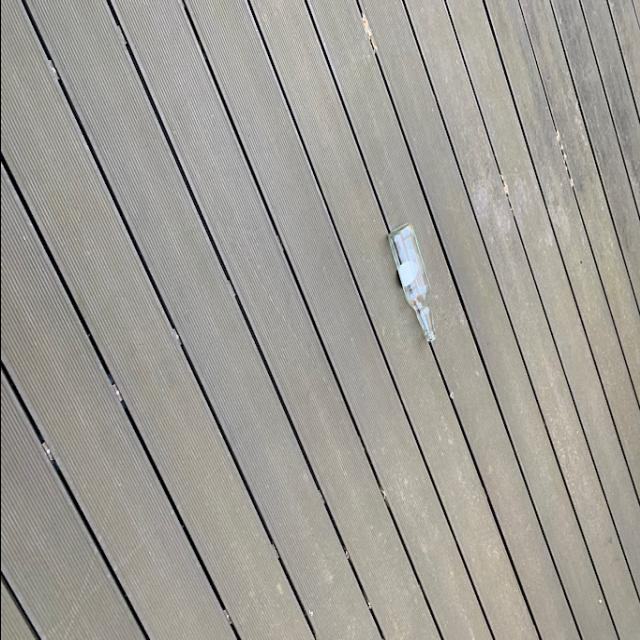Glass Bottle: (386, 221, 436, 345)
